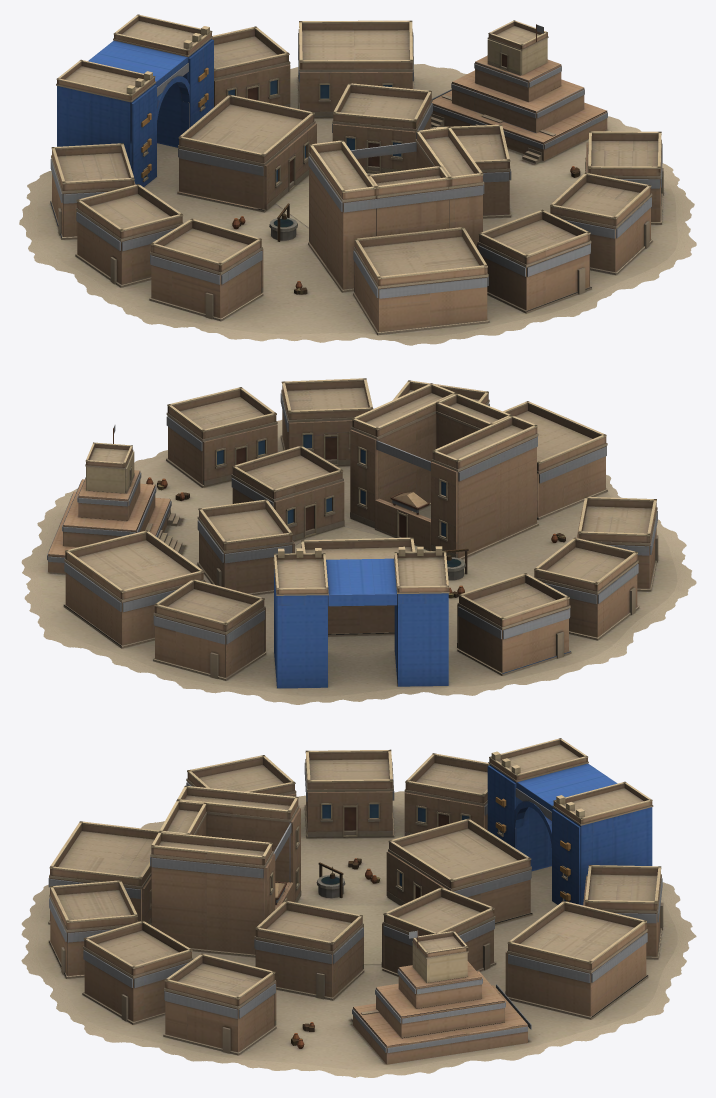
The model's file is bronze-town-medium-b-levant.glb.
3 renders of one model, top to bottom at view 1: azimuth 30°, elevation 25°; view 2: azimuth 150°, elevation 25°; view 3: azimuth 270°, elevation 25°, orthographic.
Parts seen in each view (by area): view 1: LOD0; view 2: LOD0; view 3: LOD0.
Part boxes in pixels (<box>): LOD0: <box>19,14,696,345</box>; LOD0: <box>21,378,696,704</box>; LOD0: <box>21,738,696,1077</box>.
Size of what is drawn, in the model's own units: 5.97 by 1.04 by 5.92.
3 materials, 3 textured.
